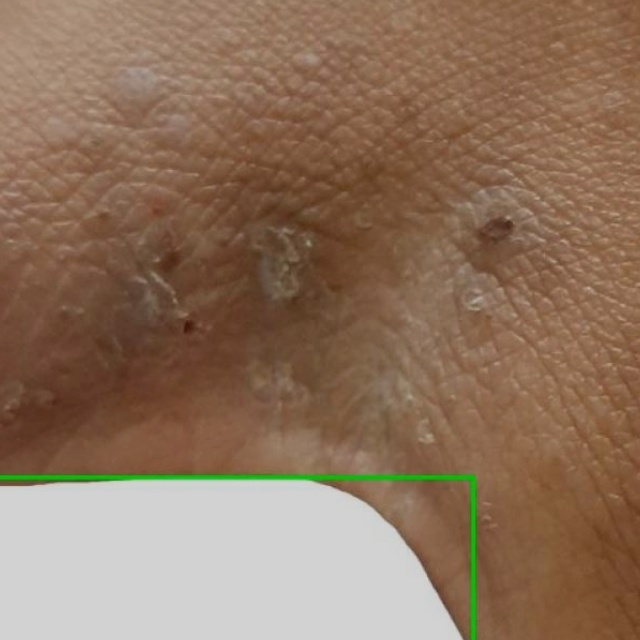Scabies: (0, 477, 473, 639)
